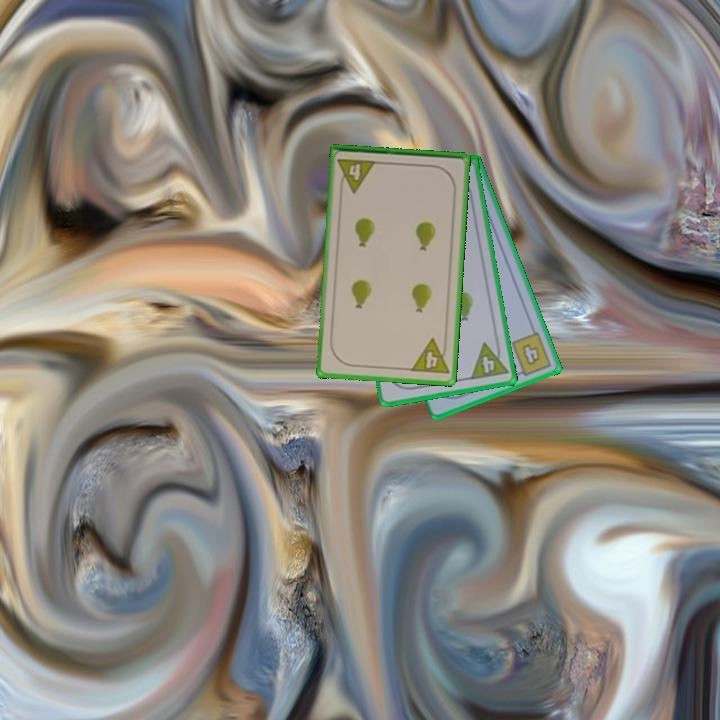4b: (508, 329, 555, 379)
4p: (467, 337, 511, 383), (407, 335, 452, 377), (334, 155, 379, 195)
